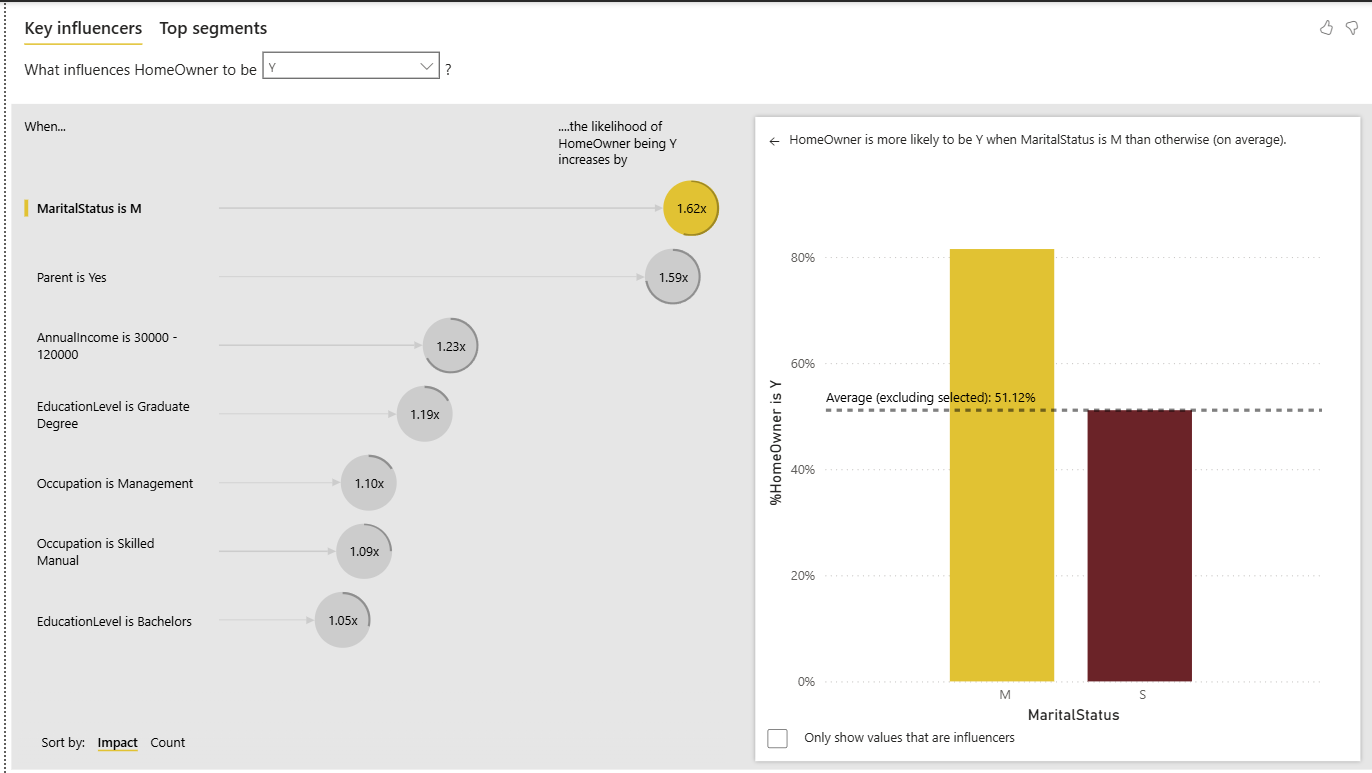

The dashboard page shown, as its layout file describes it:
{"tool":"powerbi","page":{"name":"Key Influencers","canvas":[1280,720],"ordinal":4},"visuals":[{"type":"keyDriversVisual","fields":{"Target":["Customer Lookup.HomeOwner"],"ExplainBy":["Customer Lookup.AnnualIncome","Customer Lookup.EducationLevel","Customer Lookup.Parent","Customer Lookup.MaritalStatus","Customer Lookup.Occupation"]},"box":[0,0,1280.1,720.6],"z":0}]}

Visuals, with their boxes in screenshot pixels (x1, y1, x2, y2), scaled from the page's 1280x720 canvas onto the 1372x773 screenshot:
keyDriversVisual - Customer Lookup.HomeOwner x Customer Lookup.AnnualIncome: {"x1": 0, "y1": 0, "x2": 1371, "y2": 772}
